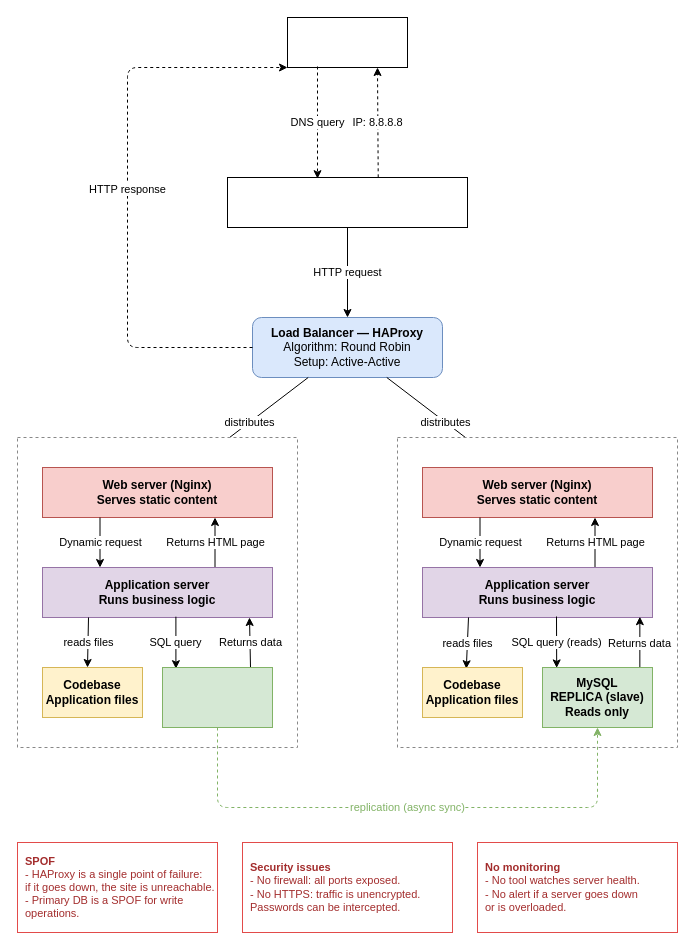
This 695x950 diagram has some shape labels left out. Here are the shapes that lost their labels. From the top down, the box of each, then its label:
(286, 16, 408, 68): User
(226, 176, 468, 228): DNS resolver www.foobar.com → 8.8.8.8 (A record)
(16, 436, 298, 748): Server 1
(396, 436, 678, 748): Server 2
(162, 666, 272, 728): MySQL PRIMARY (master) Reads + Writes
